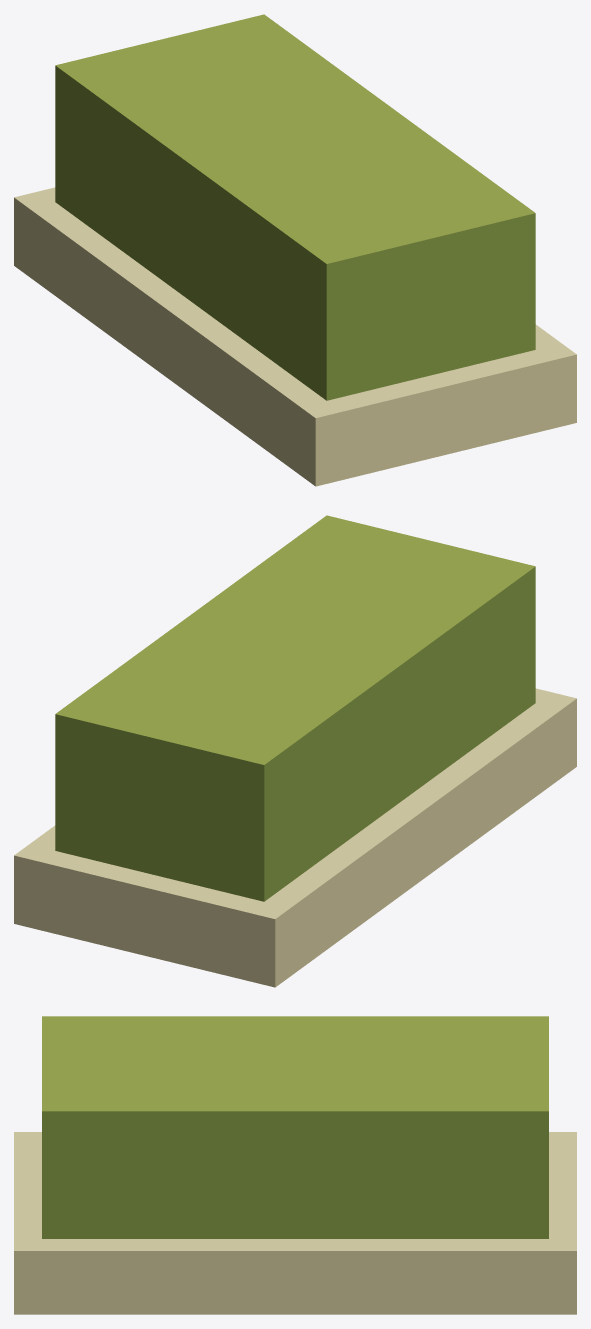
File: hedge-straight.fbx
The picture shows the model from 3 angles, top to bottom: view 1: azimuth 30°, elevation 25°; view 2: azimuth 150°, elevation 25°; view 3: azimuth 270°, elevation 25°; orthographic projection. The views are drawn at different scales.
Visible parts, largest first — view 1: hedge-straight; view 2: hedge-straight; view 3: hedge-straight.
Part boxes in pixels (x1,y1,x2,y2): hedge-straight: (14, 14, 576, 486); hedge-straight: (14, 515, 576, 987); hedge-straight: (14, 1016, 576, 1314).
Size of the model in its own units: 100 by 75 by 200.
